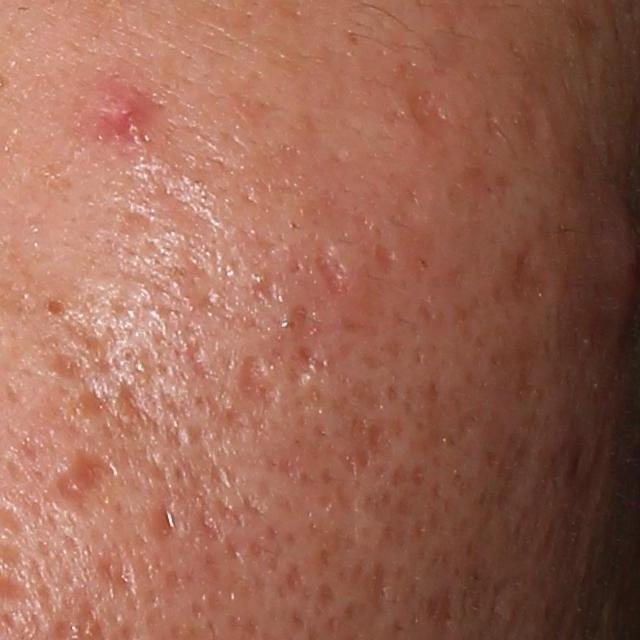atrophic_scar: (51, 446, 114, 518), (404, 86, 463, 138), (235, 351, 284, 411), (513, 89, 554, 155), (511, 236, 546, 311), (313, 237, 352, 296), (59, 312, 111, 352), (93, 555, 137, 600), (282, 341, 322, 388), (146, 502, 189, 544), (111, 373, 144, 425), (425, 584, 455, 638), (368, 559, 396, 615), (76, 374, 110, 420), (366, 417, 396, 464), (346, 376, 379, 413), (46, 351, 88, 380), (279, 564, 306, 605), (371, 239, 395, 274), (318, 583, 339, 610)
papule: (76, 77, 172, 154)
